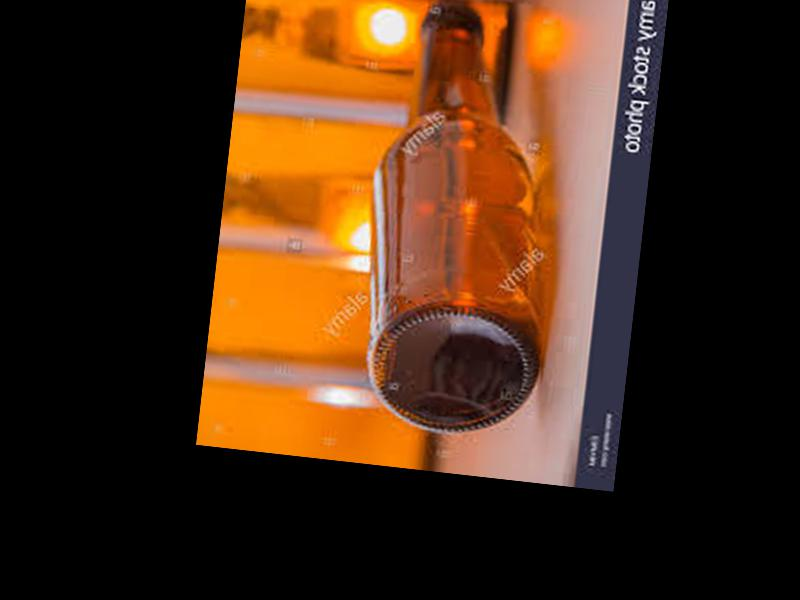Beer: (344, 0, 587, 445)
